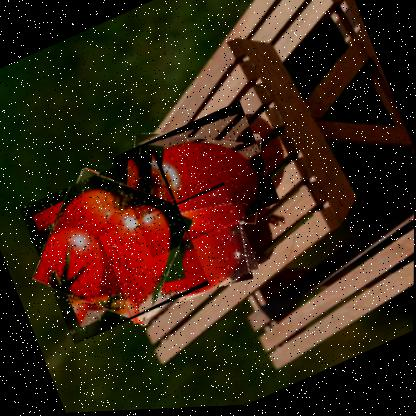tomato: (17, 147, 211, 347), (110, 100, 281, 261), (98, 180, 263, 327)
